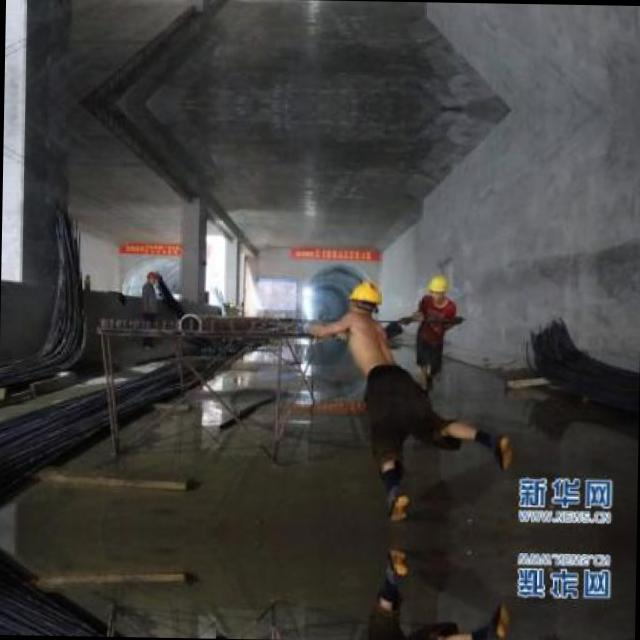helmet: (347, 278, 383, 324), (422, 271, 447, 302)
